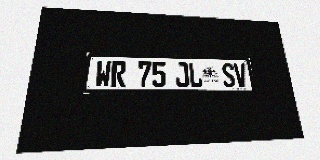5: (152, 62, 166, 87)
7: (137, 61, 152, 87)
J: (175, 62, 189, 87)
L: (188, 62, 203, 87)
R: (111, 61, 126, 88)
S: (221, 63, 236, 87)
V: (233, 63, 248, 87)
W: (95, 60, 111, 88)
